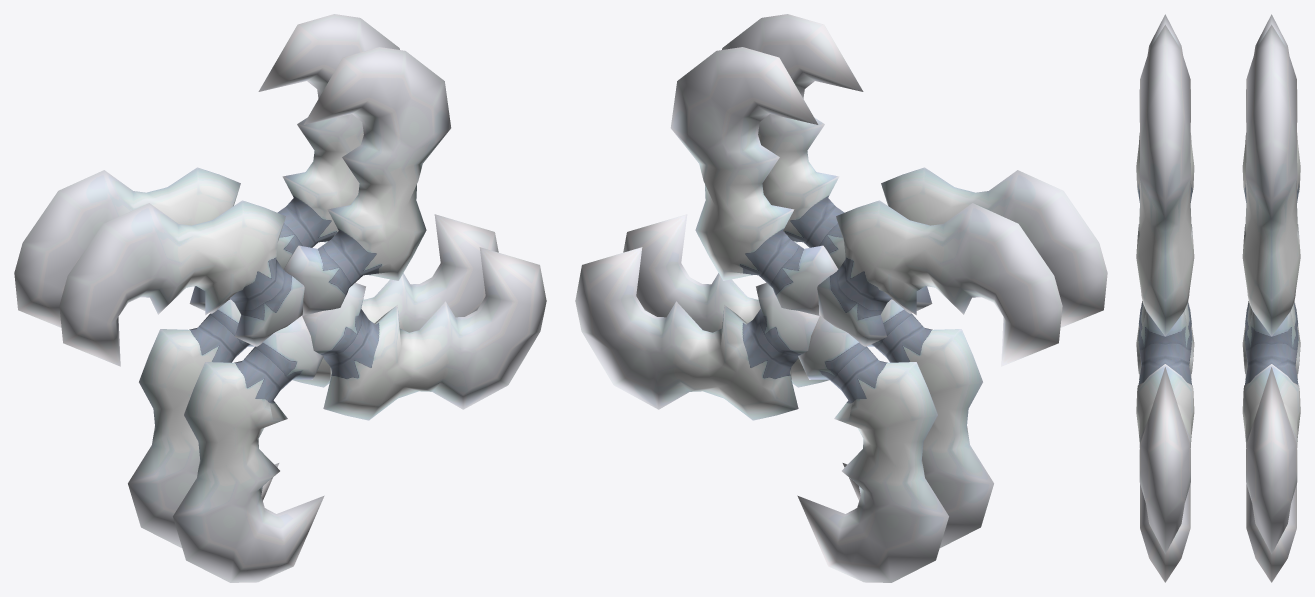
File: item_weayoymgm2501-et06.glb
3 views of the same model, side by side, from view 1: azimuth 30°, elevation 25°; view 2: azimuth 150°, elevation 25°; view 3: azimuth 270°, elevation 25° (orthographic). The views are drawn at different scales.
Visible parts, largest first — view 1: FlyffMesh; view 2: FlyffMesh; view 3: FlyffMesh.
Part boxes in pixels (x1,y1,x2,y2): FlyffMesh: (14,14,546,582); FlyffMesh: (575,14,1107,582); FlyffMesh: (1136,14,1300,582).
Bounding box in the file's own units: 0.8399 × 0.8331 × 0.208.
1 material, 1 textured.
